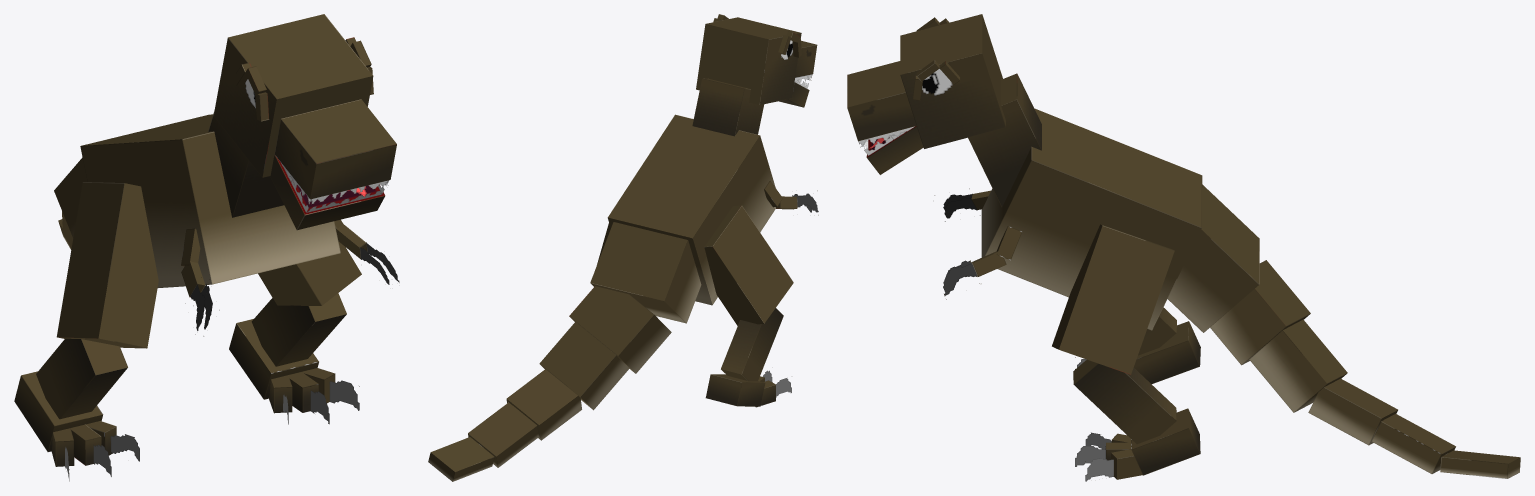
File: animateddinosaur18.obj
3 renders of one model, left to right at view 1: azimuth 30°, elevation 25°; view 2: azimuth 150°, elevation 25°; view 3: azimuth 270°, elevation 25°, orthographic. The views are drawn at different scales.
Parts seen in each view (by area): view 1: Object_6, Object_64, Object_9, Object_56, Object_12, Object_34, Object_31, Object_53, Object_79, Object_37, Object_15, Object_92 (+12 smaller); view 2: Object_6, Object_92, Object_9, Object_64, Object_95, Object_98, Object_53, Object_101, Object_12, Object_104, Object_107, Object_15 (+1 smaller); view 3: Object_6, Object_31, Object_64, Object_92, Object_34, Object_98, Object_95, Object_53, Object_56, Object_101, Object_104, Object_37 (+4 smaller).
Boxes of the visible parts, x1,y1,x2,y2 form: Object_6: (80,114,340,287); Object_64: (213,14,373,177); Object_9: (56,182,158,348); Object_56: (274,99,396,199); Object_12: (36,338,127,419); Object_34: (251,293,346,366); Object_31: (258,241,361,305); Object_53: (208,112,283,217); Object_79: (270,155,385,230); Object_37: (229,319,318,399); Object_15: (14,371,103,451); Object_92: (54,157,87,237); Object_6: (607,114,775,305); Object_92: (590,222,701,323); Object_9: (704,205,793,325); Object_64: (696,17,801,104); Object_95: (569,286,671,373); Object_98: (539,322,629,410); Object_53: (692,78,764,136); Object_101: (506,369,581,440); Object_12: (721,308,783,381); Object_104: (468,402,538,467); Object_107: (428,437,494,481); Object_15: (705,374,765,406); Object_6: (981,108,1202,330); Object_31: (1052,224,1174,374); Object_64: (900,14,1005,148); Object_92: (1167,184,1259,332); Object_34: (1073,359,1176,444); Object_98: (1249,319,1347,412); Object_95: (1210,260,1310,365); Object_53: (968,73,1041,207); Object_56: (847,61,916,141); Object_101: (1308,378,1397,445); Object_104: (1371,414,1455,473); Object_37: (1131,408,1200,475).
Bounding box in the file's own units: 2.32 × 3.54 × 5.43.
